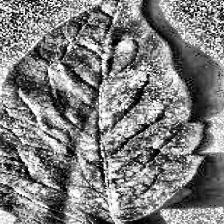spider mites: (0, 0, 202, 224)
